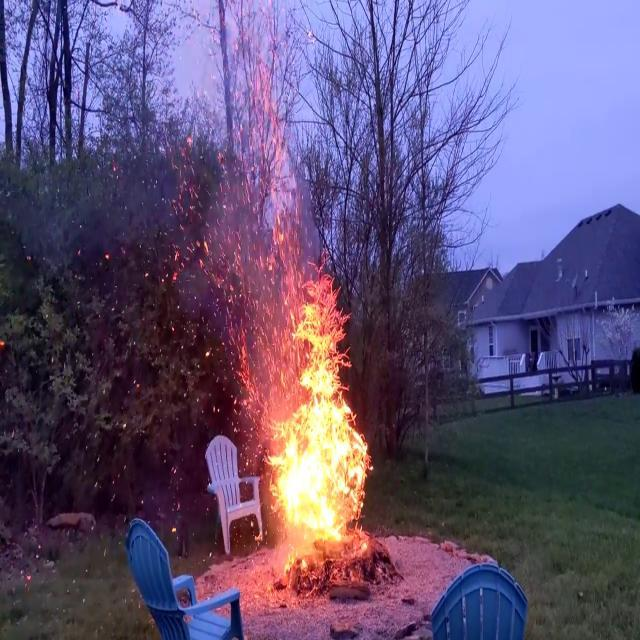Fire: (263, 265, 379, 551)
Smoke: (49, 100, 303, 282)
